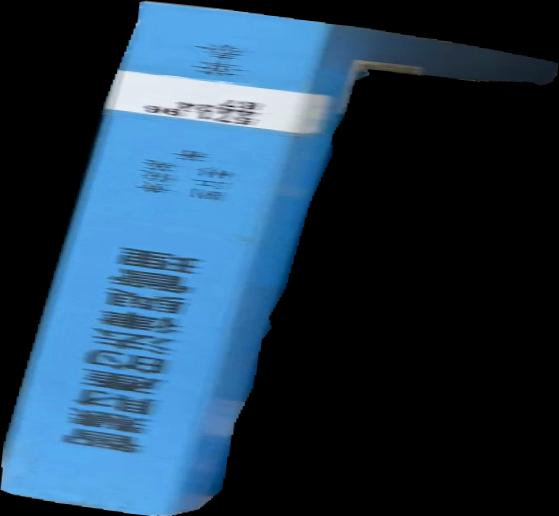reverse: (1, 1, 559, 516)
